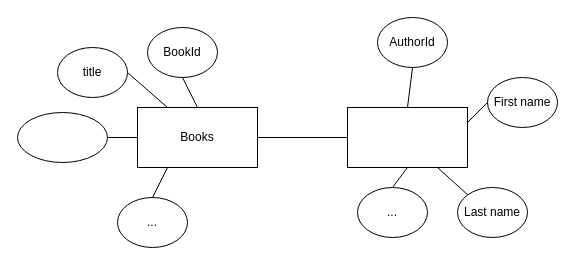
Image size: 575x265. Some labels were removed from this diagram. Here are the shapes that lost their labels. From the top down, the box of each, then its label:
(16, 112, 108, 162): releaseDate
(346, 106, 468, 168): Authors
